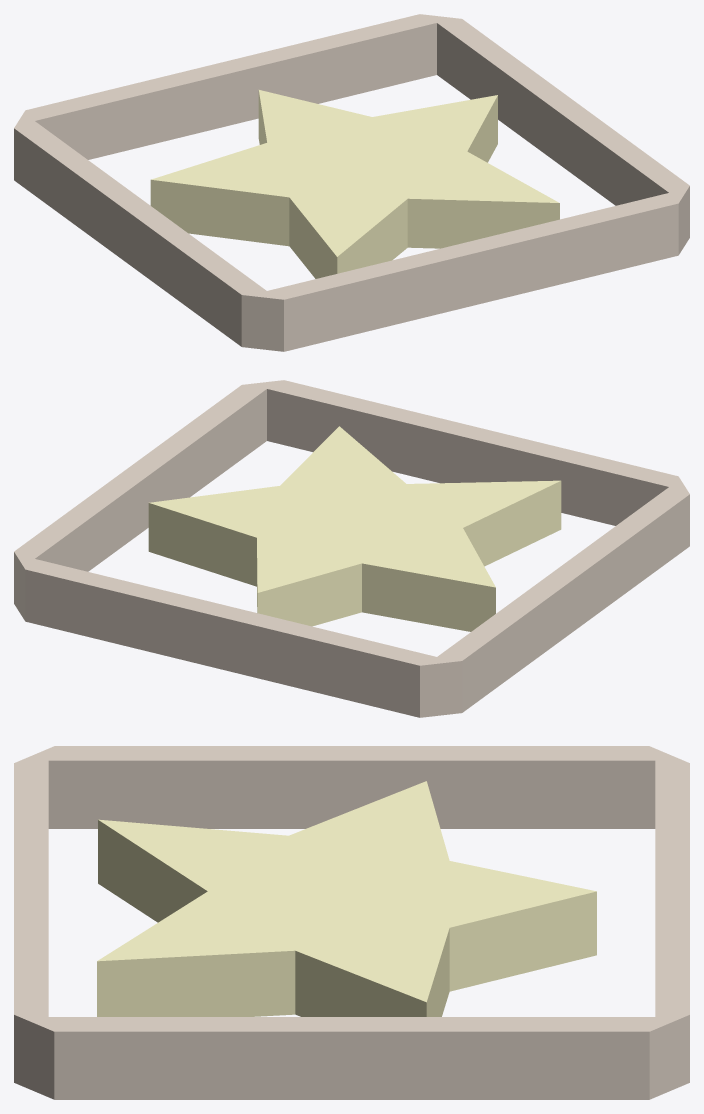
Rendered from bonus_tank_upgrade.glb.
3 renders of one model, top to bottom at view 1: azimuth 30°, elevation 25°; view 2: azimuth 150°, elevation 25°; view 3: azimuth 270°, elevation 25°, orthographic. The views are drawn at different scales.
Parts seen in each view (by area): view 1: bonus_tank_upgrade; view 2: bonus_tank_upgrade; view 3: bonus_tank_upgrade.
Boxes of the visible parts, <box> form: bonus_tank_upgrade: <box>14,14,689,351</box>; bonus_tank_upgrade: <box>14,380,689,717</box>; bonus_tank_upgrade: <box>14,746,689,1099</box>.
Size of the model in its own units: 1.8 by 0.2 by 1.8.
1 material, 1 textured.
